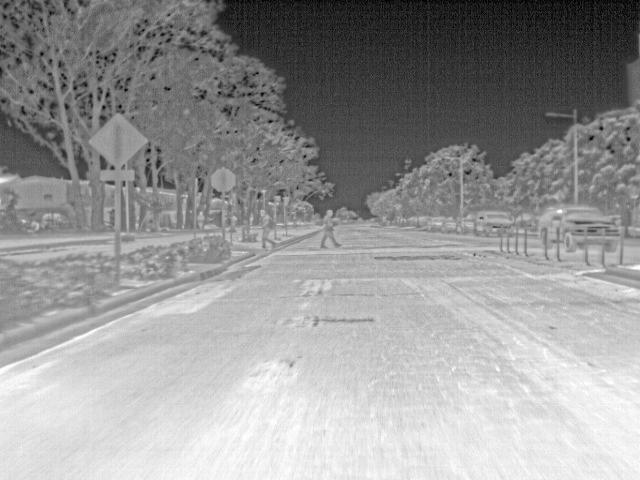car: (539, 204, 626, 252), (474, 210, 515, 237), (457, 215, 475, 234), (427, 218, 445, 230), (443, 218, 458, 232)
person: (320, 208, 342, 249), (259, 208, 277, 250), (143, 209, 155, 233), (196, 208, 208, 230)
